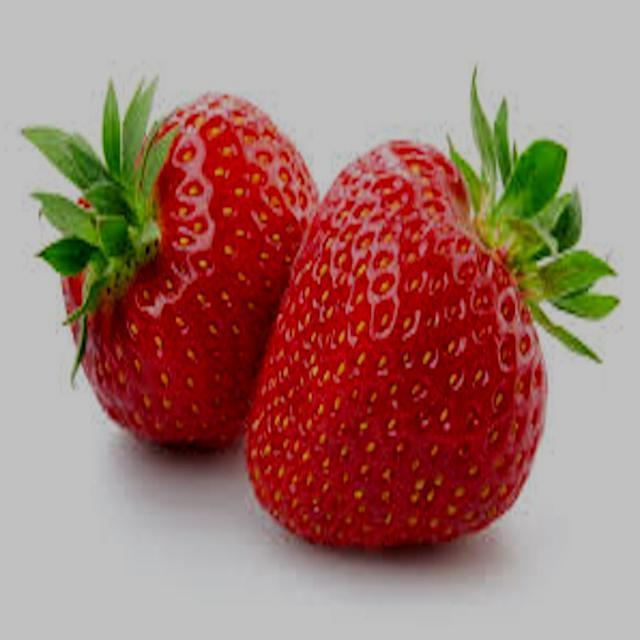strawberry: (248, 75, 618, 547), (24, 83, 316, 449)
